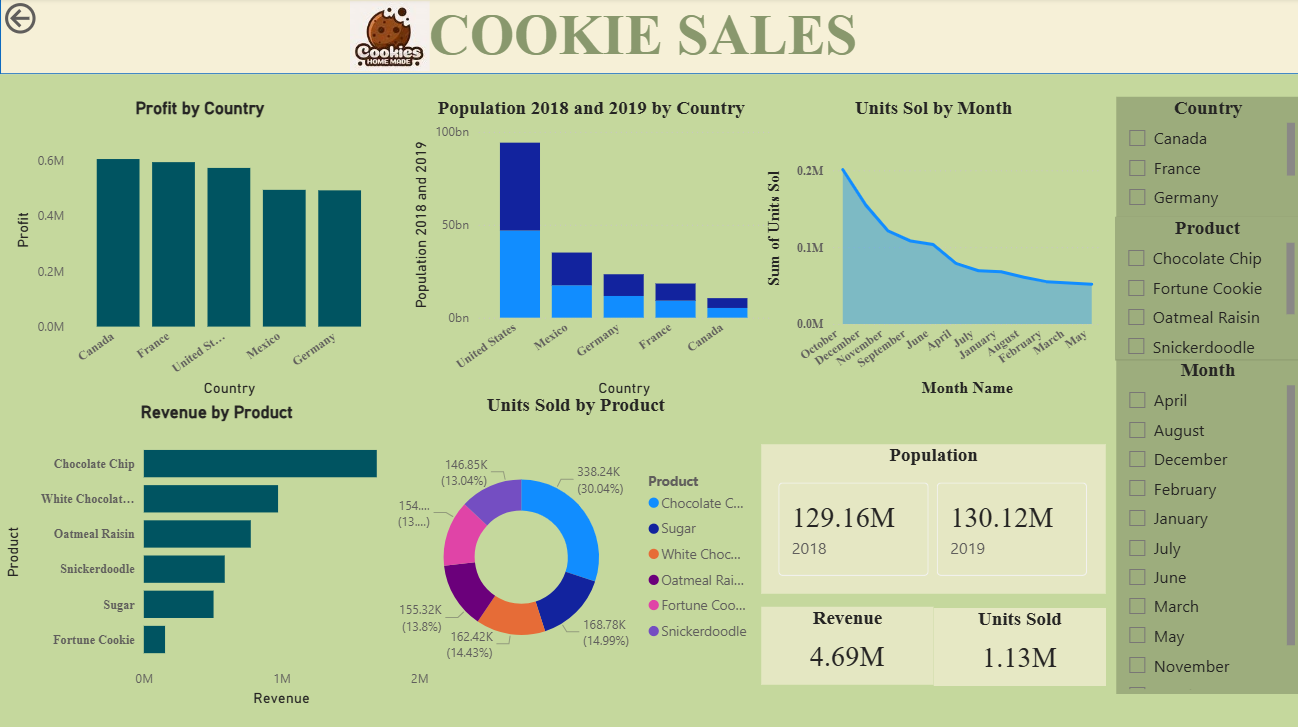

What the dashboard file says about the page in this screenshot:
{"tool":"powerbi","page":{"name":"Page 1","canvas":[1280,720],"ordinal":0},"visuals":[{"type":"textbox","box":[10,0,280,280],"z":0},{"type":"shape","box":[0,0,1280,75.1],"z":1000},{"type":"textbox","box":[0,0,1280,75.1],"z":2000},{"type":"shape","box":[0,75.1,1280,645.6],"z":3000},{"type":"columnChart","fields":{"Category":["Cookie Sales.Country"],"Y":["Sum(Cookie Sales.Profit)"]},"box":[9.8,98.5,374.2,299.1],"z":4000},{"type":"clusteredBarChart","fields":{"Category":["Cookie Sales.Product"],"Y":["Sum(Cookie Sales.Revenue)"]},"box":[0,397.5,427.1,305.2],"z":5000},{"type":"slicer","title":"Country","fields":{"Values":["Cookie Sales.Country"]},"box":[1099.1,97.2,180.9,118.2],"z":6000},{"type":"slicer","title":"Product","fields":{"Values":["Cookie Sales.Product"]},"box":[1097.8,215.4,182.2,141.5],"z":7000},{"type":"donutChart","title":"Units Sold by Product","fields":{"Category":["Cookie Sales.Product"],"Y":["Sum(Cookie Sales.Units Sold)"]},"box":[384,389.6,365.9,300.5],"z":8000},{"type":"actionButton","box":[0,0,100,40],"z":9000},{"type":"lineStackedColumnComboChart","fields":{"Category":["Cookie Sales.Country"],"Y":["Sum(Cookie Sales.Pop_2018)","Sum(Cookie Sales.Pop_2019)"]},"box":[400.7,97.4,361.7,300.5],"z":10000},{"type":"slicer","title":"Month","fields":{"Values":["Cookie Sales.Month Name"]},"box":[1099.1,356.2,180.9,329.7],"z":11000},{"type":"card","title":"Revenue","fields":{"Values":["Sum(Cookie Sales.Revenue)"]},"box":[749.9,599.7,169.7,76.5],"z":12000},{"type":"cardVisual","title":"Population","fields":{"Data":["Avg(Cookie Sales.Pop_2018)","Avg(Cookie Sales.Pop_2019)"]},"box":[749.9,439.7,339.5,147.5],"z":13000},{"type":"cardVisual","title":"Units Sold","fields":{"Data":["Sum(Cookie Sales.Units Sold)"]},"box":[919.7,601,169.7,76.5],"z":14000},{"type":"areaChart","title":"Units Sol by Month","fields":{"Category":["Cookie Sales.Month Name"],"Y":["Sum(Cookie Sales.Units Sold)"]},"box":[749.9,97.4,339.5,300.5],"z":15000},{"type":"image","box":[344.6,0,78.8,75.1],"z":16000}]}

Visuals, with their boxes in screenshot pixels (x1, y1, x2, y2), scaled from the page's 1280x720 canvas onto the 1298x727 screenshot:
textbox: (left=10, top=0, right=294, bottom=283)
shape: (left=0, top=0, right=1297, bottom=76)
textbox: (left=0, top=0, right=1297, bottom=76)
shape: (left=0, top=76, right=1297, bottom=726)
columnChart - Cookie Sales.Country x Sum(Cookie Sales.Profit): (left=10, top=99, right=389, bottom=401)
clusteredBarChart - Cookie Sales.Product x Sum(Cookie Sales.Revenue): (left=0, top=401, right=433, bottom=710)
"Country" slicer: (left=1115, top=98, right=1297, bottom=217)
"Product" slicer: (left=1113, top=217, right=1297, bottom=360)
"Units Sold by Product" donutChart: (left=389, top=393, right=760, bottom=697)
actionButton: (left=0, top=0, right=101, bottom=40)
lineStackedColumnComboChart - Cookie Sales.Country x Sum(Cookie Sales.Pop_2018): (left=406, top=98, right=773, bottom=402)
"Month" slicer: (left=1115, top=360, right=1297, bottom=693)
"Revenue" card: (left=760, top=606, right=933, bottom=683)
"Population" cardVisual: (left=760, top=444, right=1105, bottom=593)
"Units Sold" cardVisual: (left=933, top=607, right=1105, bottom=684)
"Units Sol by Month" areaChart: (left=760, top=98, right=1105, bottom=402)
image: (left=349, top=0, right=429, bottom=76)
